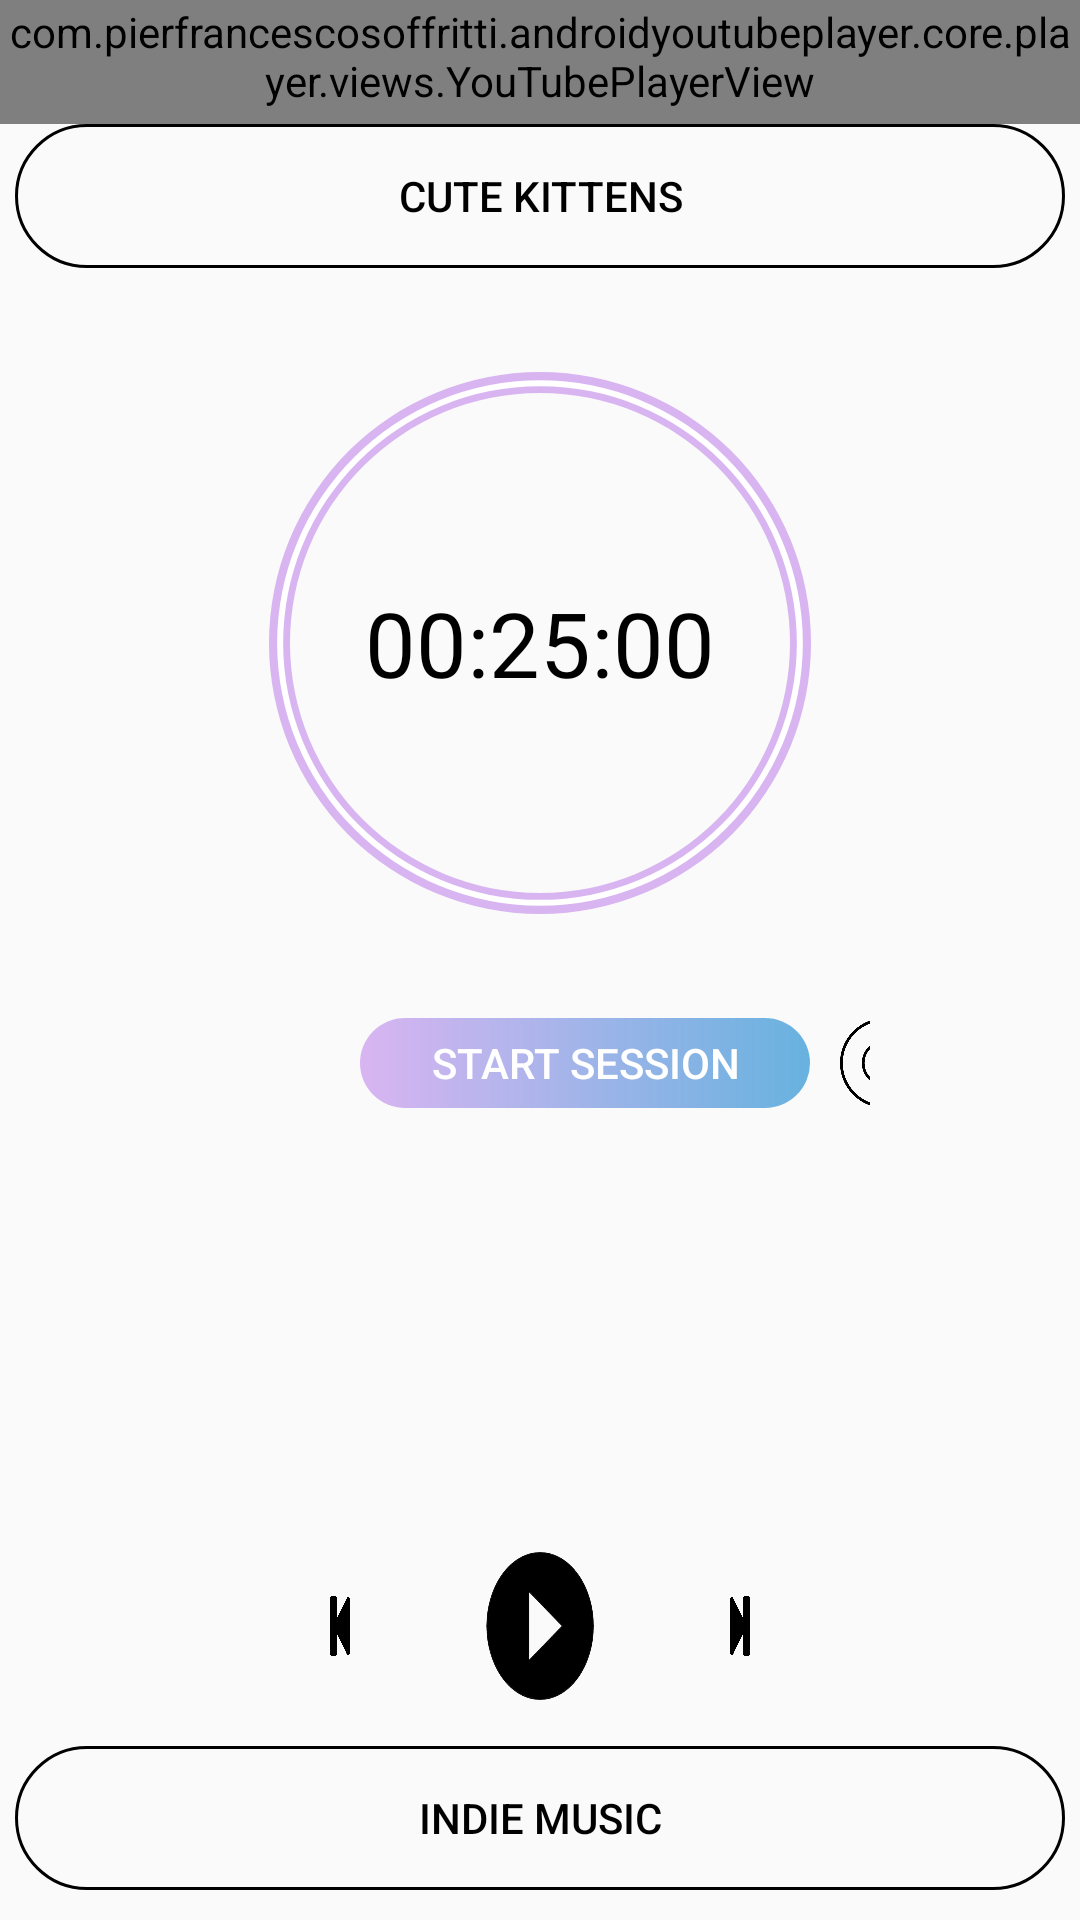

Screen size 1080px×1920px. Icon name, then its center in pixels as (x,y):
play: (540,1626)
play next: (740,1626)
play prev: (340,1626)
